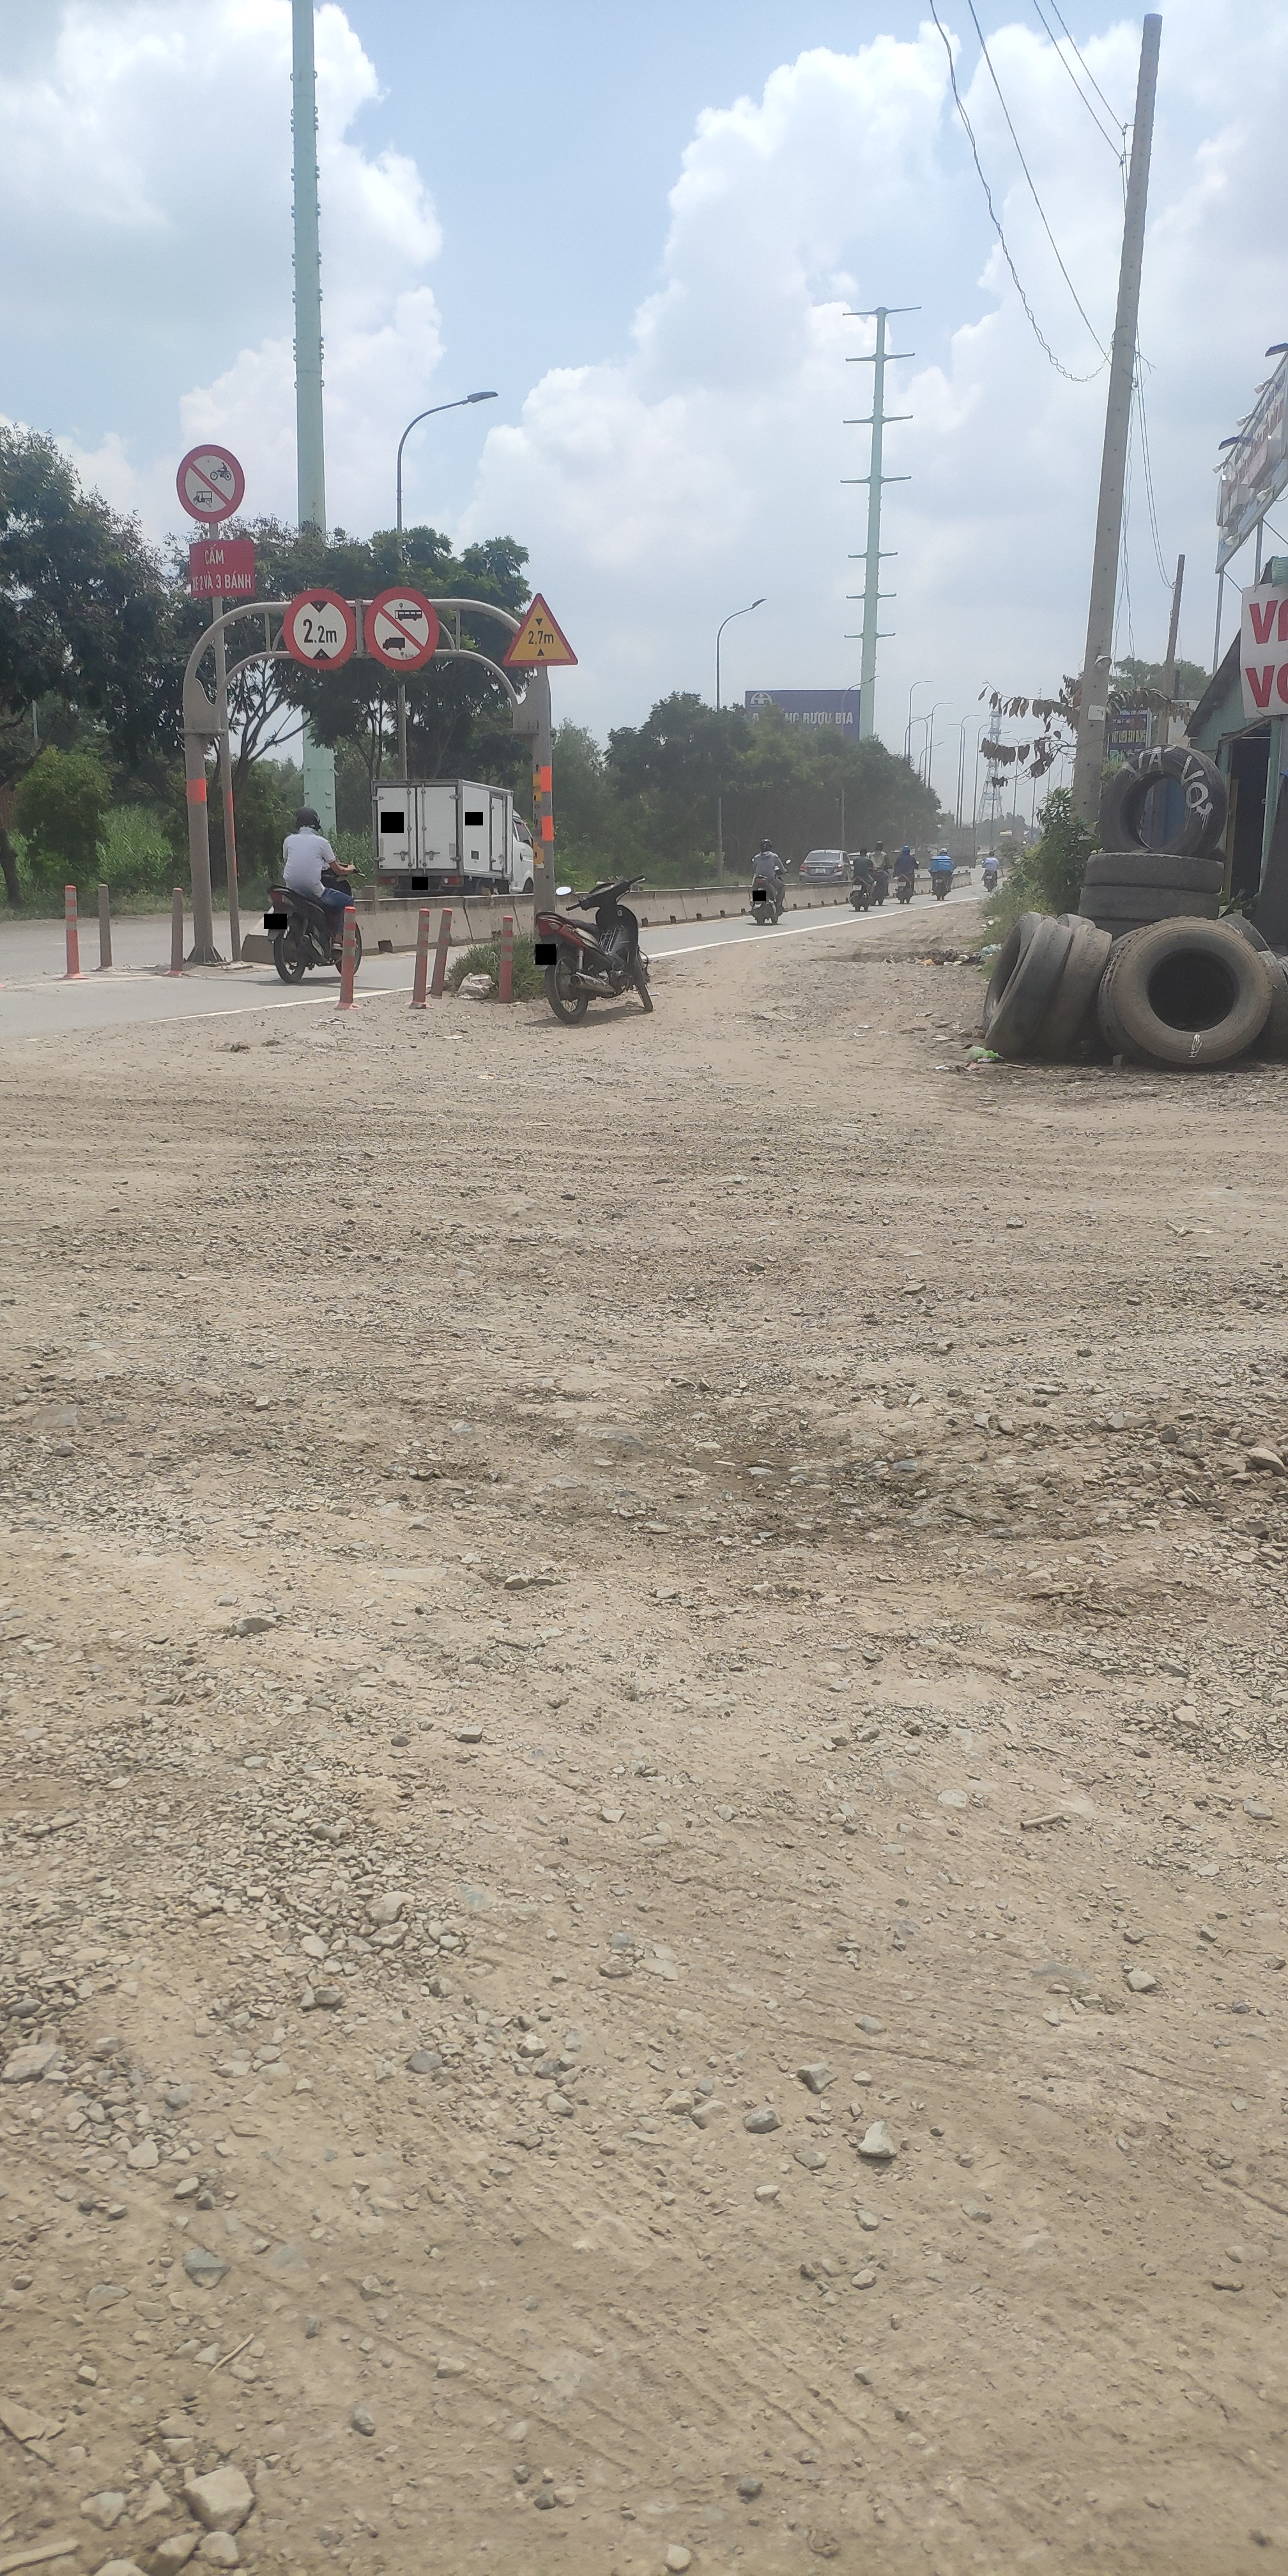hole: (609, 1383, 1073, 1575), (802, 945, 925, 968)
